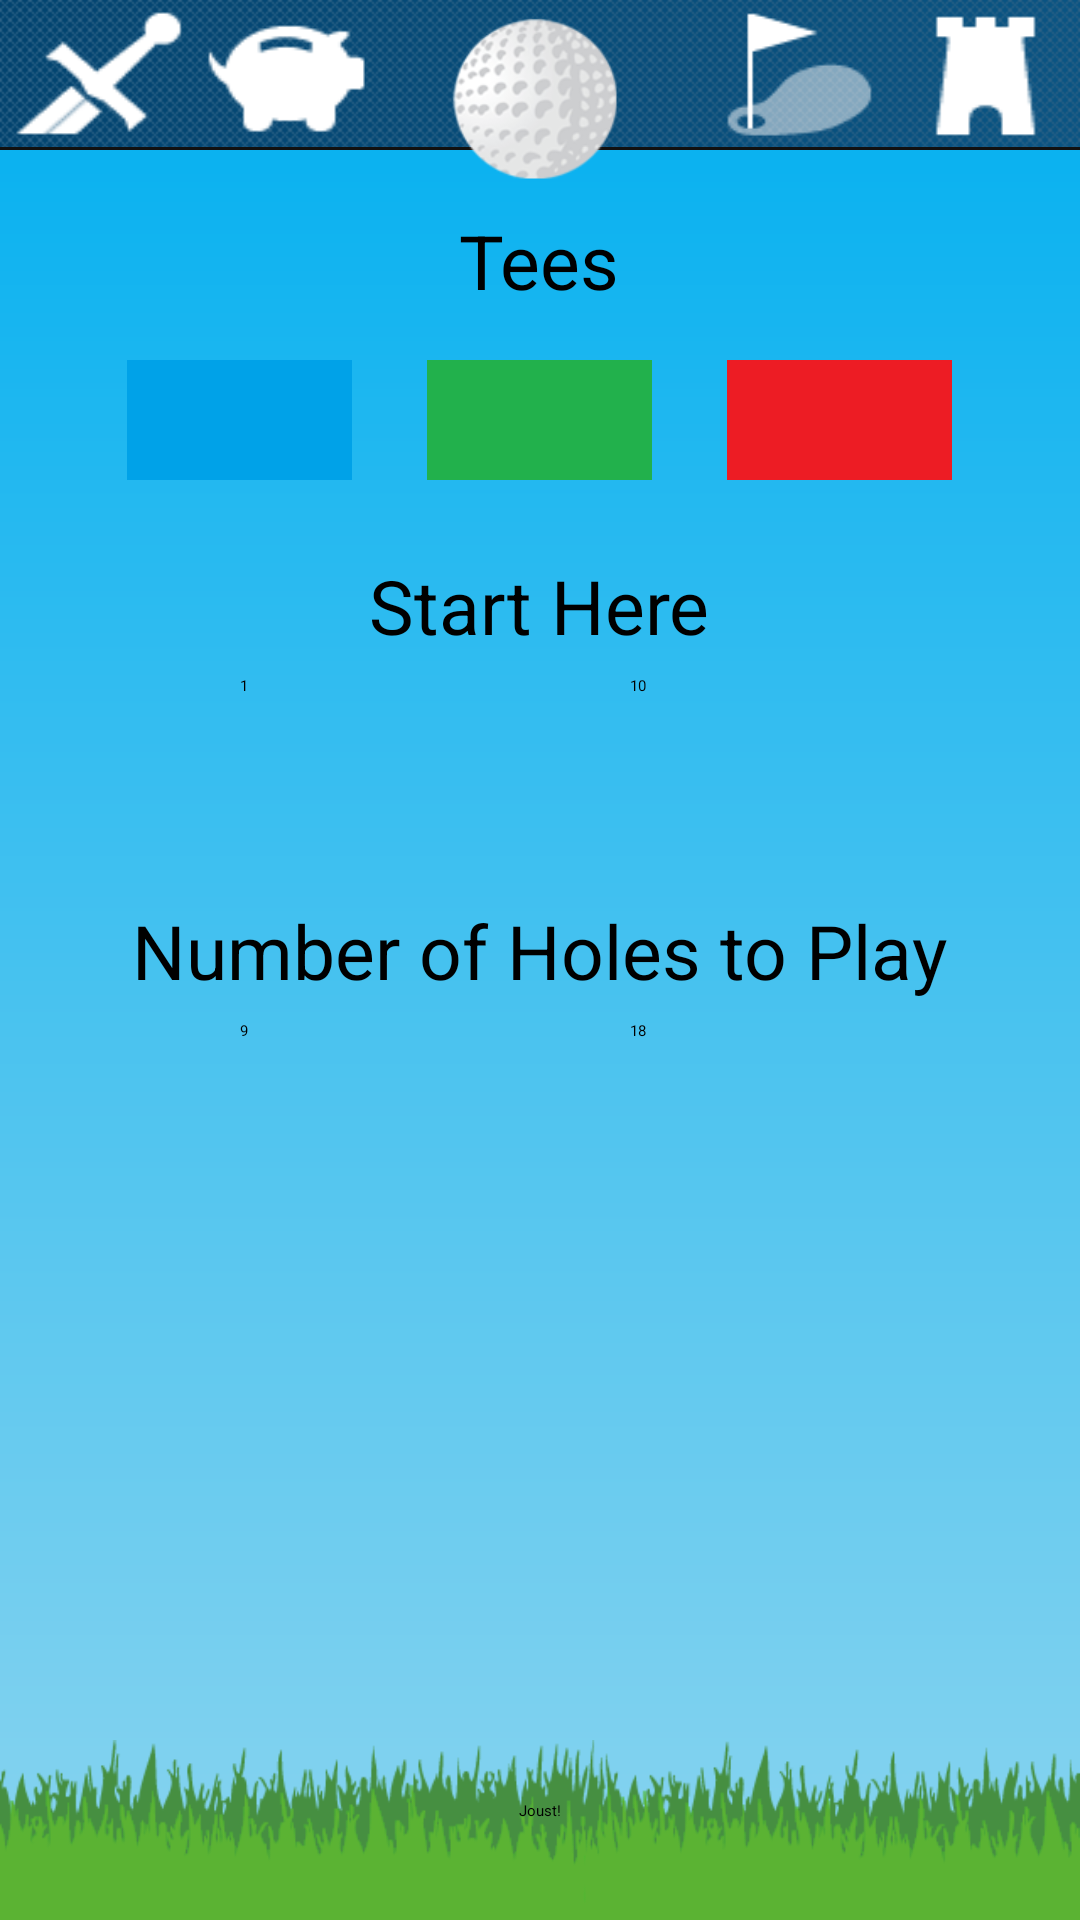

Named icons in this screenshot (1080×1920) and their centers, (x,y):
dealsbutton: (288,73)
homebutton: (984,73)
joustbutton: (96,73)
